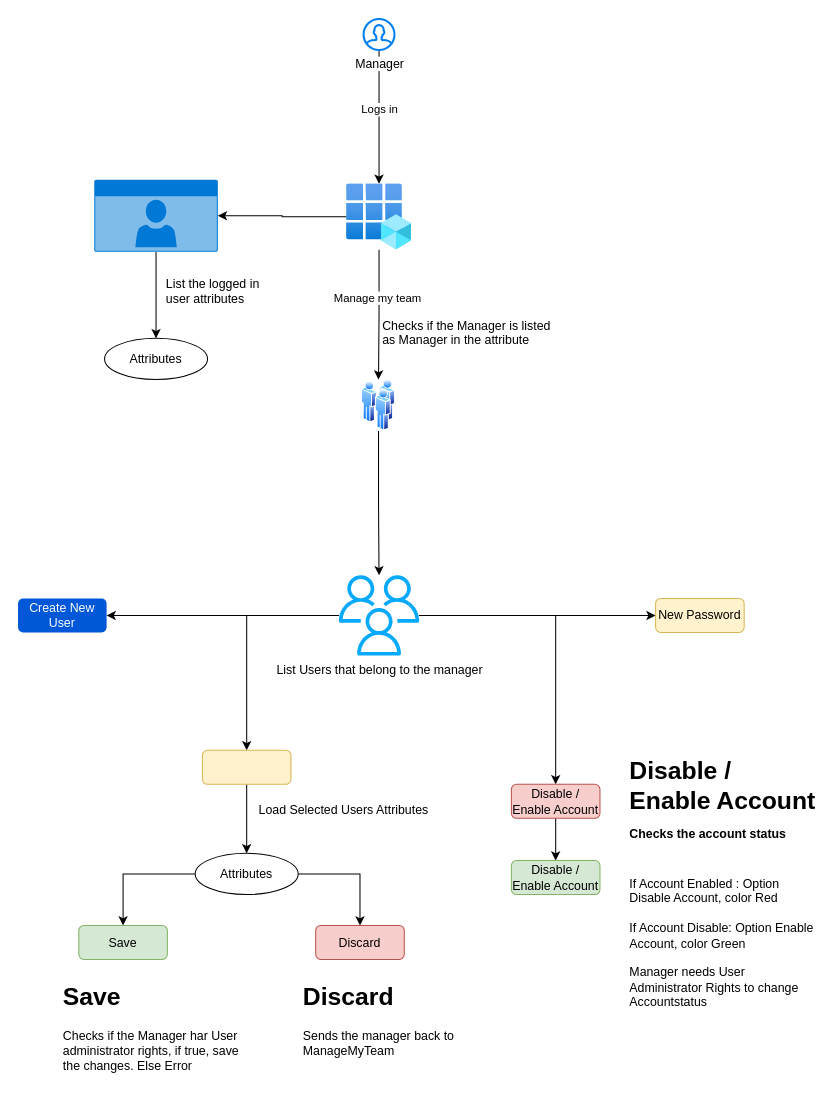
Image size: 837x1118. Some labels were removed from this diagram. Each missing label, with the box of its shape:
Azure Users: (361, 379, 395, 431)
AzurePowerBoards: (346, 183, 411, 249)
Edit Users: (201, 749, 291, 784)
User: (94, 179, 217, 251)
